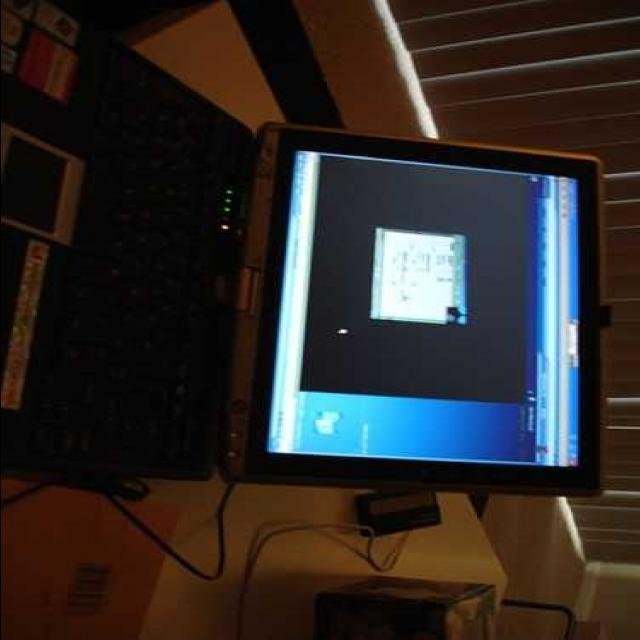laptop: (0, 64, 596, 480)
